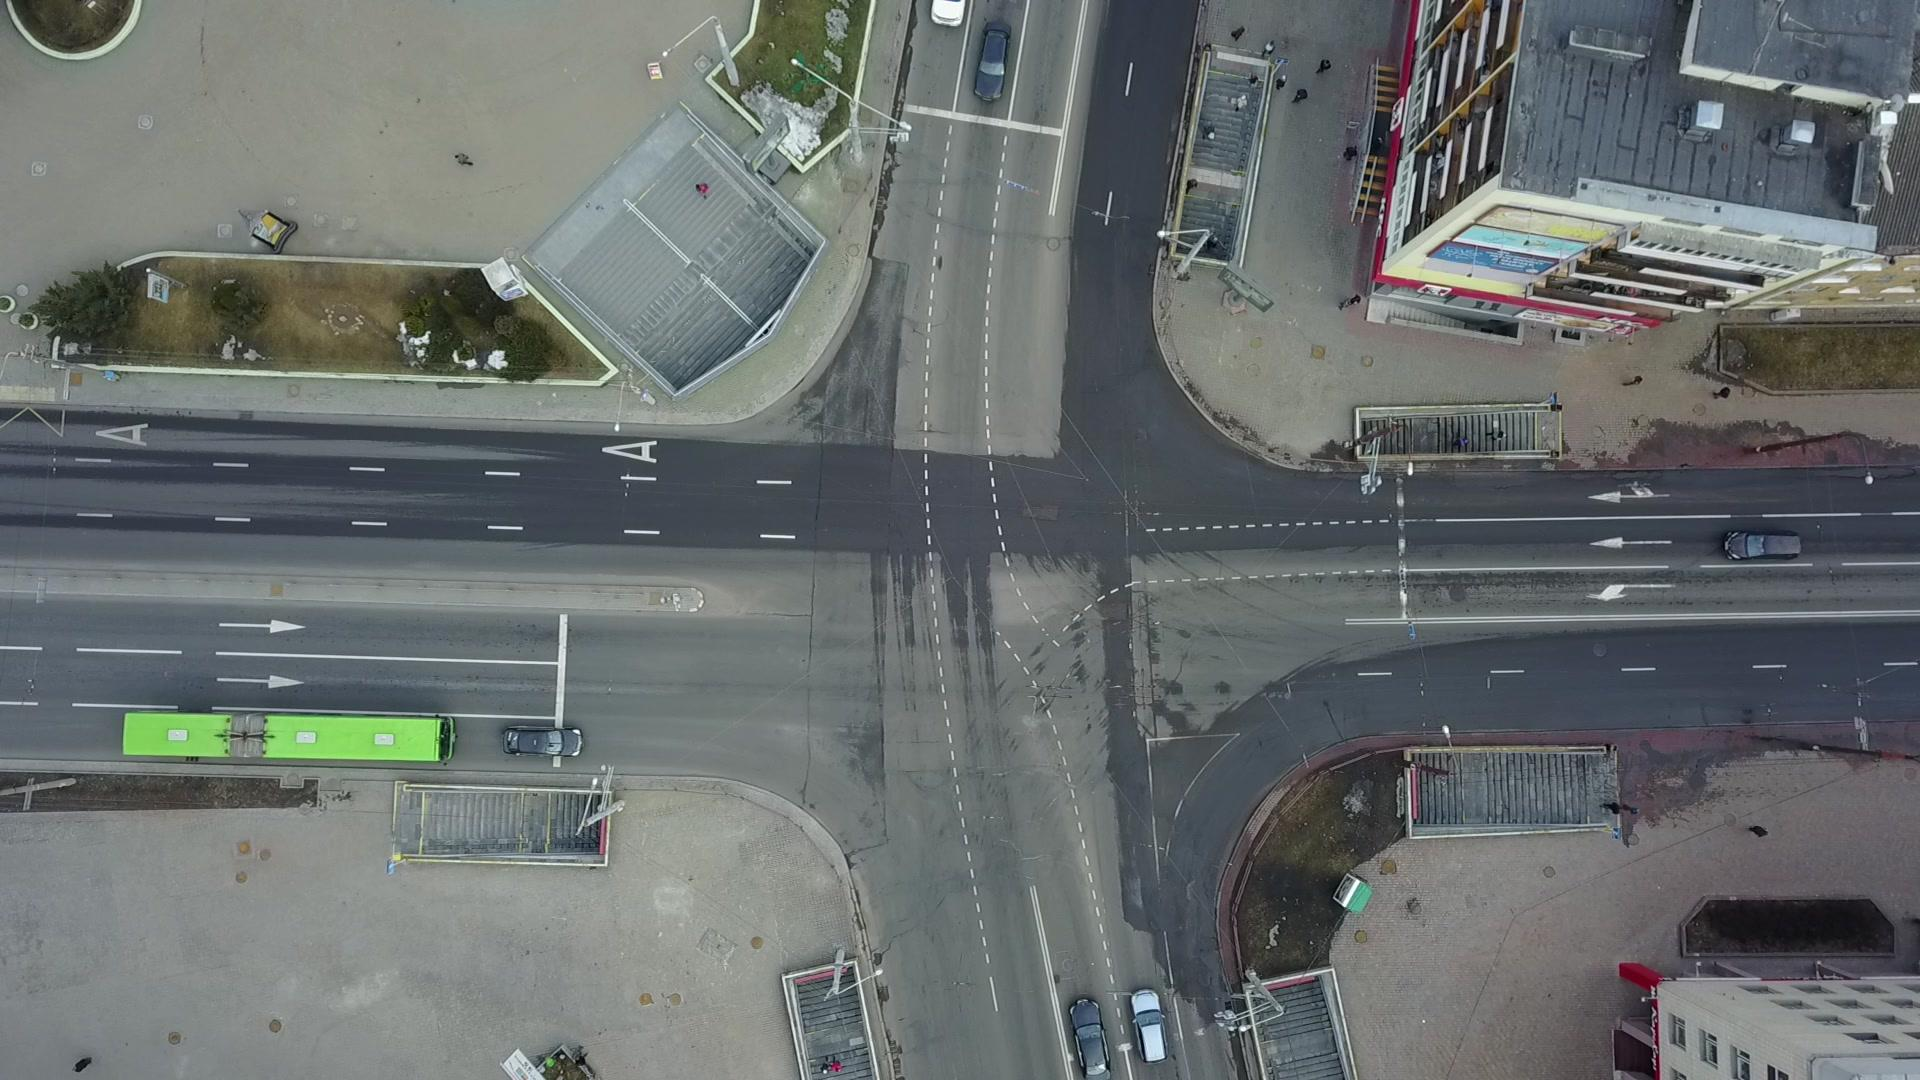car: (1120, 981, 1174, 1067), (971, 15, 1019, 107), (493, 725, 585, 762), (1722, 527, 1807, 567)
